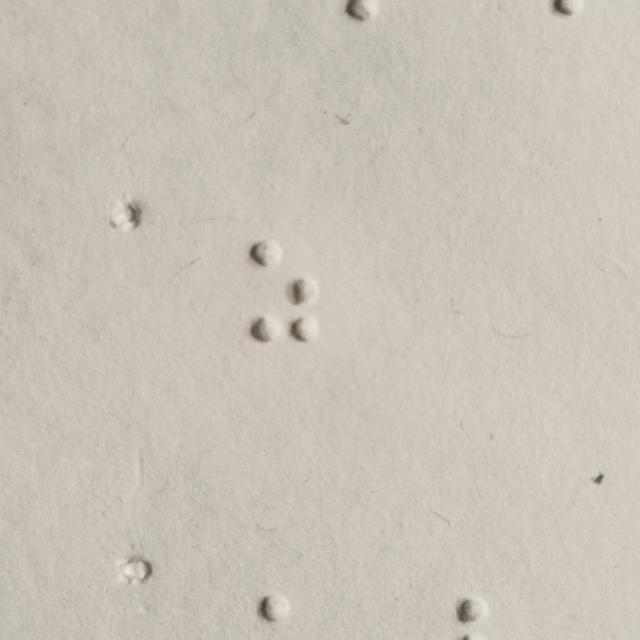sa: (251, 237, 324, 347)
